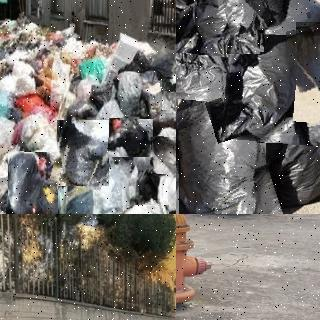Garbage: (176, 95, 275, 214), (223, 33, 320, 144), (176, 31, 232, 164), (176, 0, 261, 54), (54, 118, 112, 189), (6, 151, 59, 214), (291, 18, 320, 123), (211, 0, 305, 31), (109, 119, 153, 157), (150, 136, 176, 175), (119, 202, 172, 214), (160, 75, 176, 111)
